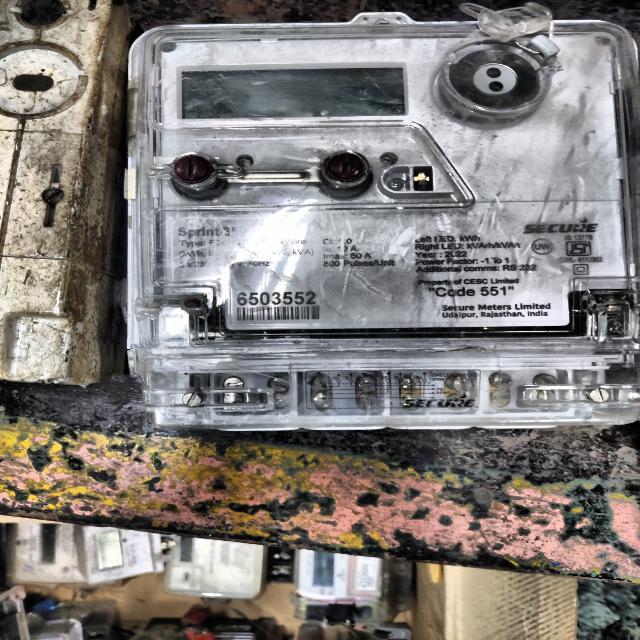Digital: (130, 21, 640, 433)
Reading: (181, 70, 396, 117)
Serial No.: (232, 289, 324, 305)
